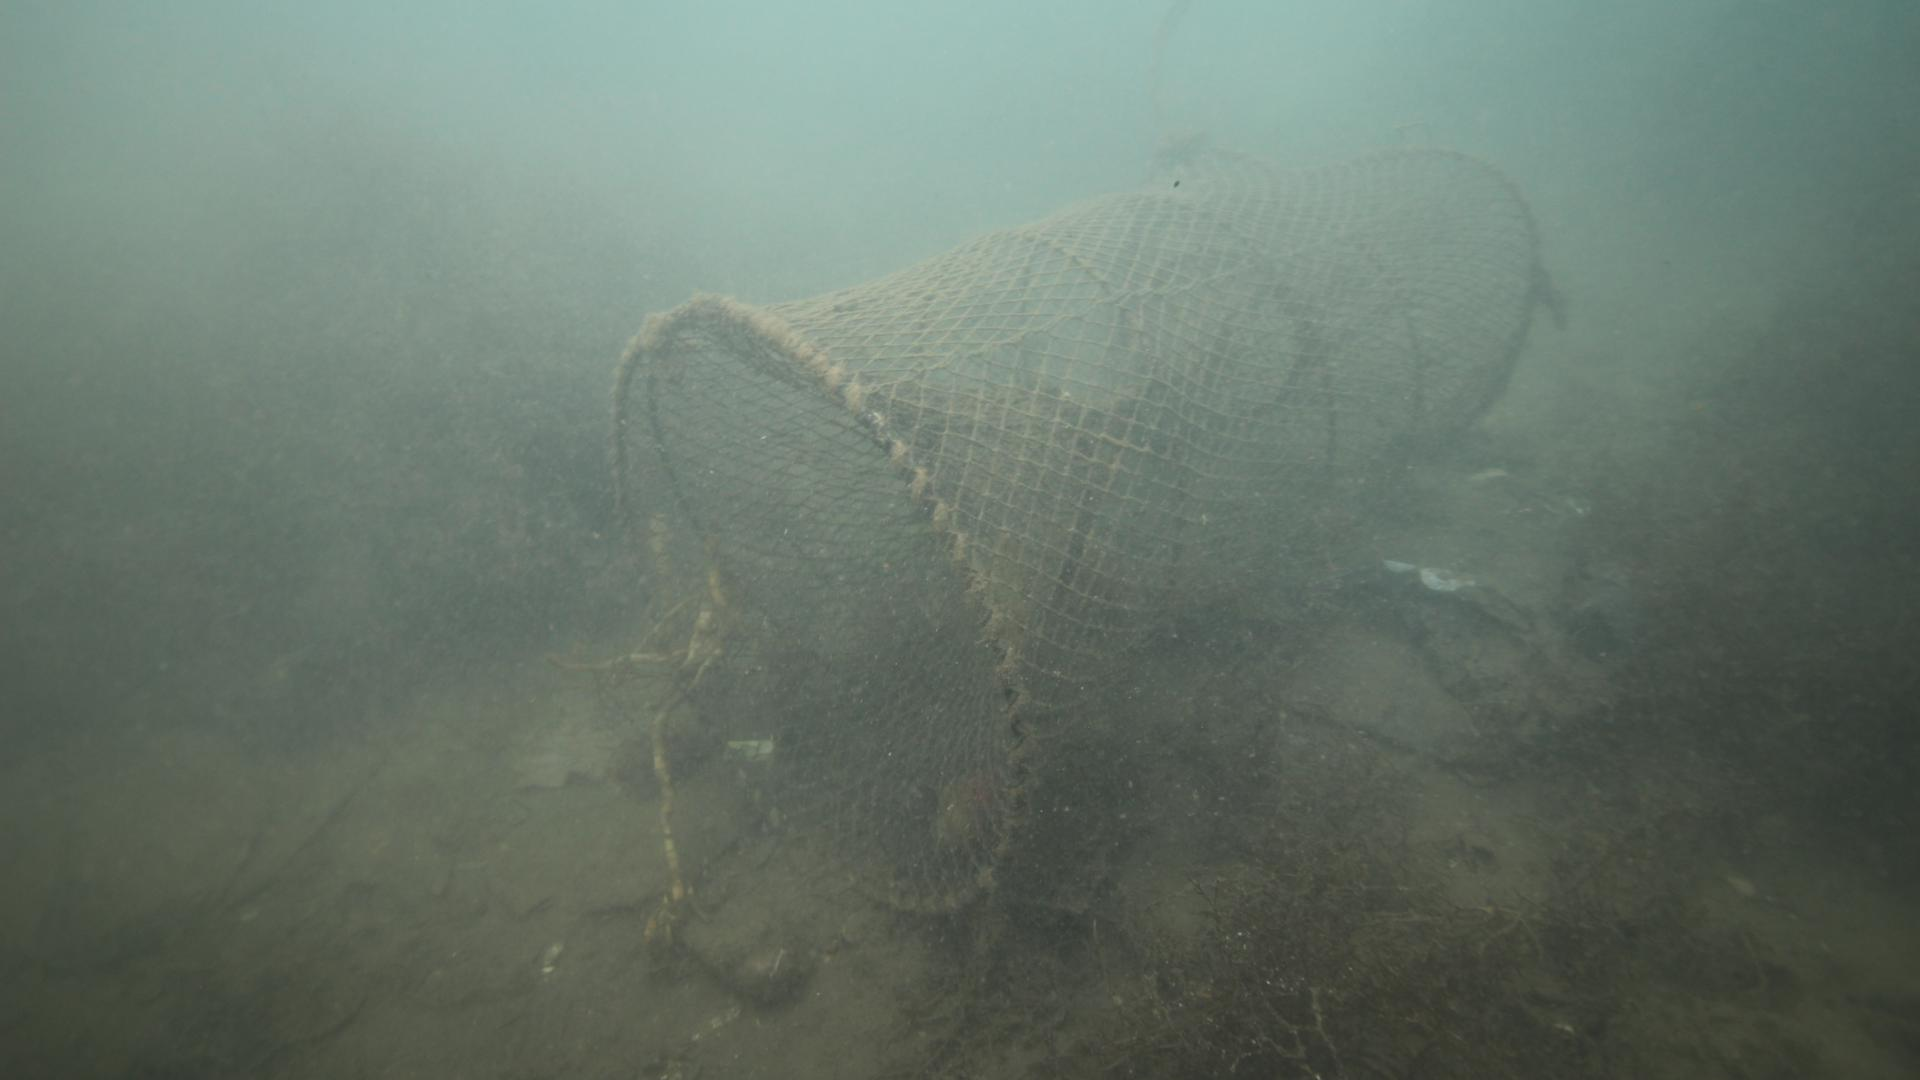spring fish trap: (604, 142, 1547, 920)
